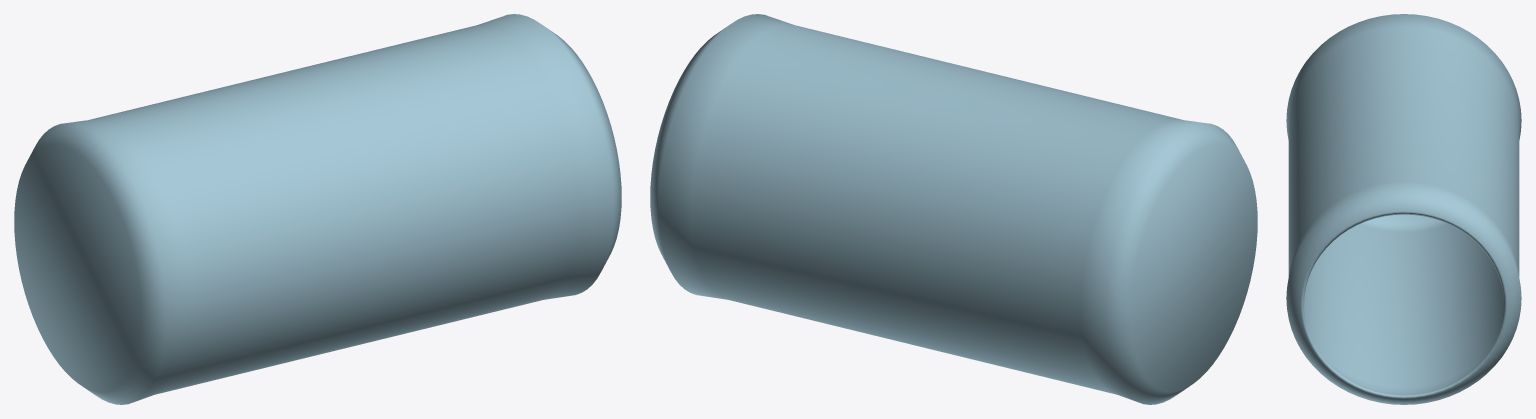
3 renders of one model, left to right at view 1: azimuth 30°, elevation 25°; view 2: azimuth 150°, elevation 25°; view 3: azimuth 270°, elevation 25°, orthographic. The views are drawn at different scales.
Visible parts, largest first — view 1: B103; view 2: B103; view 3: B103.
Boxes of the visible parts, bbox=[...] form: B103: bbox=[14, 14, 621, 404]; B103: bbox=[650, 14, 1257, 404]; B103: bbox=[1286, 14, 1521, 404].
Bounding box in the file's own units: 12.7 × 6.6 × 6.6.
